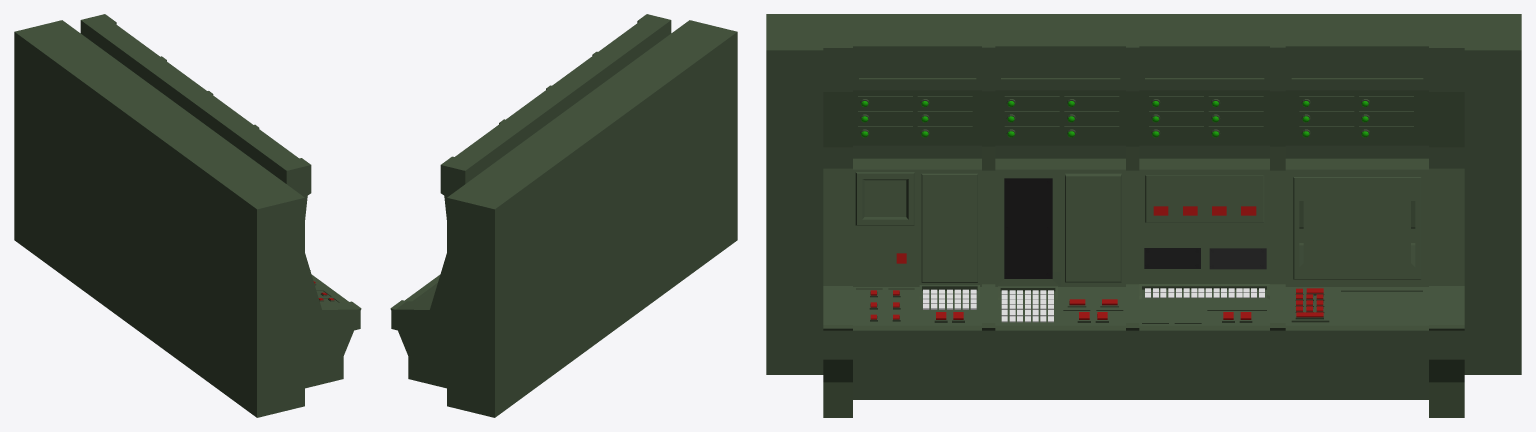
Rendered from TestReactor ControlRoom (1).fbx.
3 renders of one model, left to right at view 1: azimuth 30°, elevation 25°; view 2: azimuth 150°, elevation 25°; view 3: azimuth 270°, elevation 25°, orthographic. The views are drawn at different scales.
Visible parts, largest first — view 1: Cylinder.004; view 2: Cylinder.004; view 3: Cylinder.004, Removable Panel1, Removable Panel3, RemovablePanel2.
Part boxes in pixels (<box>): Cylinder.004: <box>14,14,361,417</box>; Cylinder.004: <box>390,14,737,417</box>; Cylinder.004: <box>766,14,1521,417</box>; Removable Panel1: <box>1004,178,1052,278</box>; Removable Panel3: <box>1209,248,1266,269</box>; RemovablePanel2: <box>1144,248,1200,268</box>.
Bounding box in the file's own units: 61.23 × 106 × 209.
